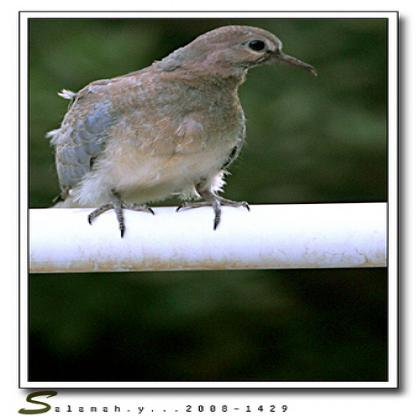bird: (47, 25, 320, 239)
